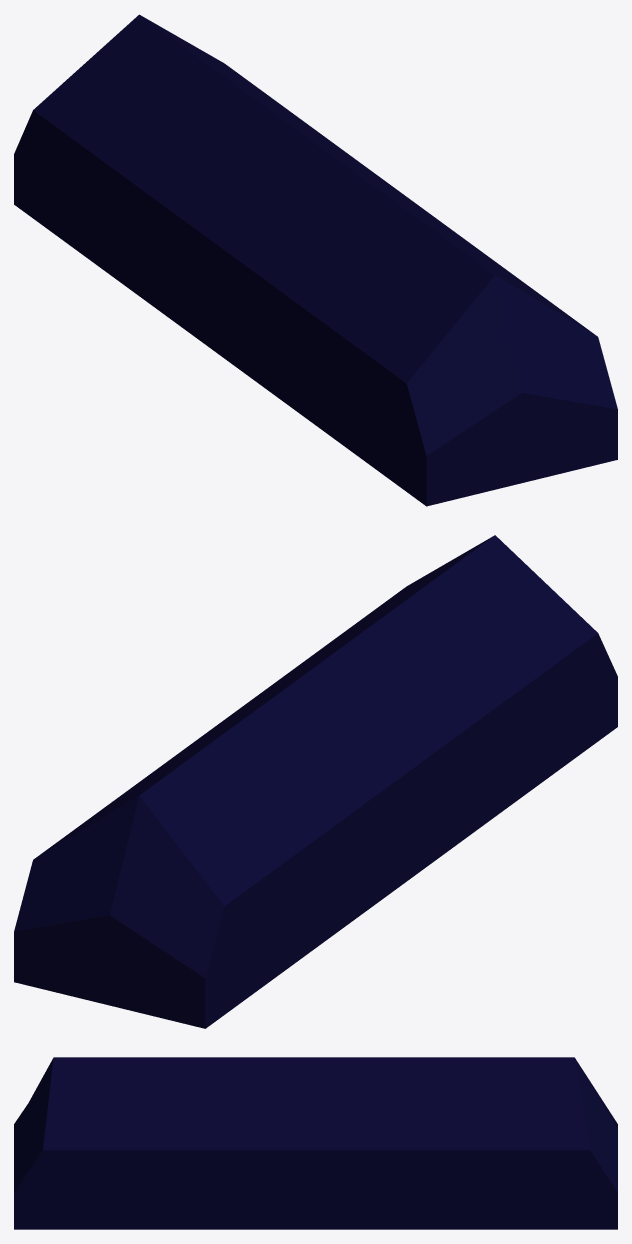
Rendered from Lamp_Hangar.fbx.
3 renders of one model, top to bottom at view 1: azimuth 30°, elevation 25°; view 2: azimuth 150°, elevation 25°; view 3: azimuth 270°, elevation 25°, orthographic. The views are drawn at different scales.
Visible parts, largest first — view 1: Lamp; view 2: Lamp; view 3: Lamp.
Boxes of the visible parts, x1=… form: Lamp: x1=14, y1=14, x2=617, y2=506; Lamp: x1=14, y1=535, x2=617, y2=1028; Lamp: x1=14, y1=1057, x2=617, y2=1229.
Size of the model in its own units: 125 by 117 by 466.
